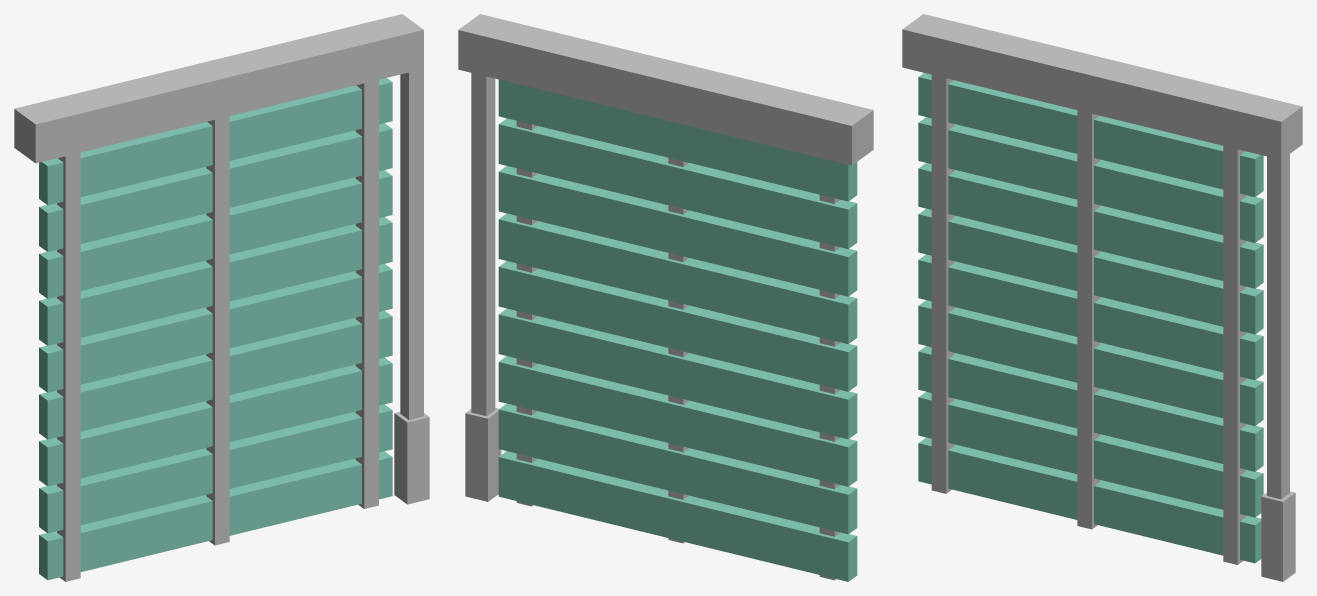
File: curtain.fbx
3 views of the same model, side by side, from view 1: azimuth 30°, elevation 25°; view 2: azimuth 150°, elevation 25°; view 3: azimuth 330°, elevation 25° (orthographic). The views are drawn at different scales.
Parts seen in each view (by area): view 1: curtain, curtainSupport; view 2: curtain, curtainSupport; view 3: curtain, curtainSupport.
Part boxes in pixels (<box>): curtain: <box>39,78,392,579</box>; curtainSupport: <box>14,14,429,581</box>; curtain: <box>498,79,857,581</box>; curtainSupport: <box>458,14,873,580</box>; curtain: <box>918,73,1263,563</box>; curtainSupport: <box>902,14,1302,581</box>.
Size of the model in its own units: 368 by 420 by 38.5.
